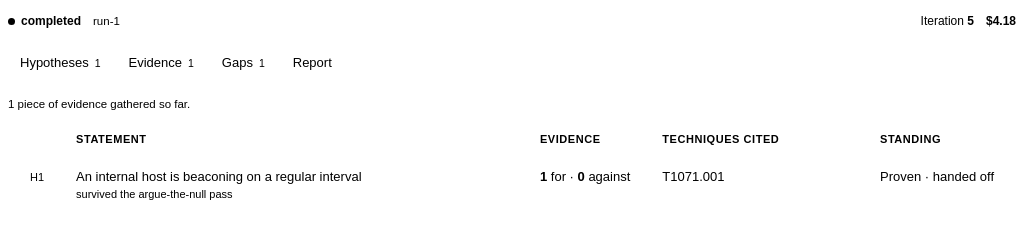
Test case: what the hunt has actually gathered › separates a blind spot from a finding
Step 1. Click the tab "Evidence1" → (161, 62), box [116,49,206,76]
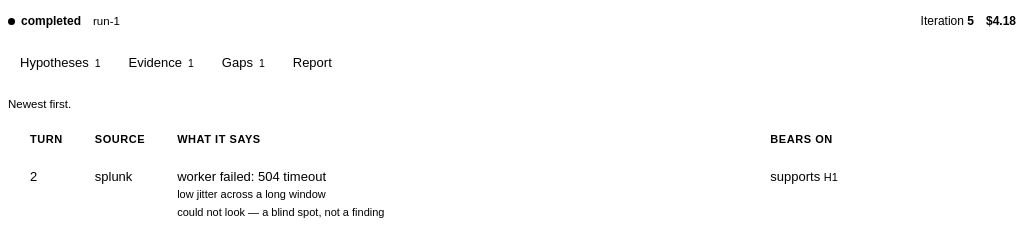
Expected: the text "could not look — a blind spot, not a finding" is shown, [177,205,384,221]
